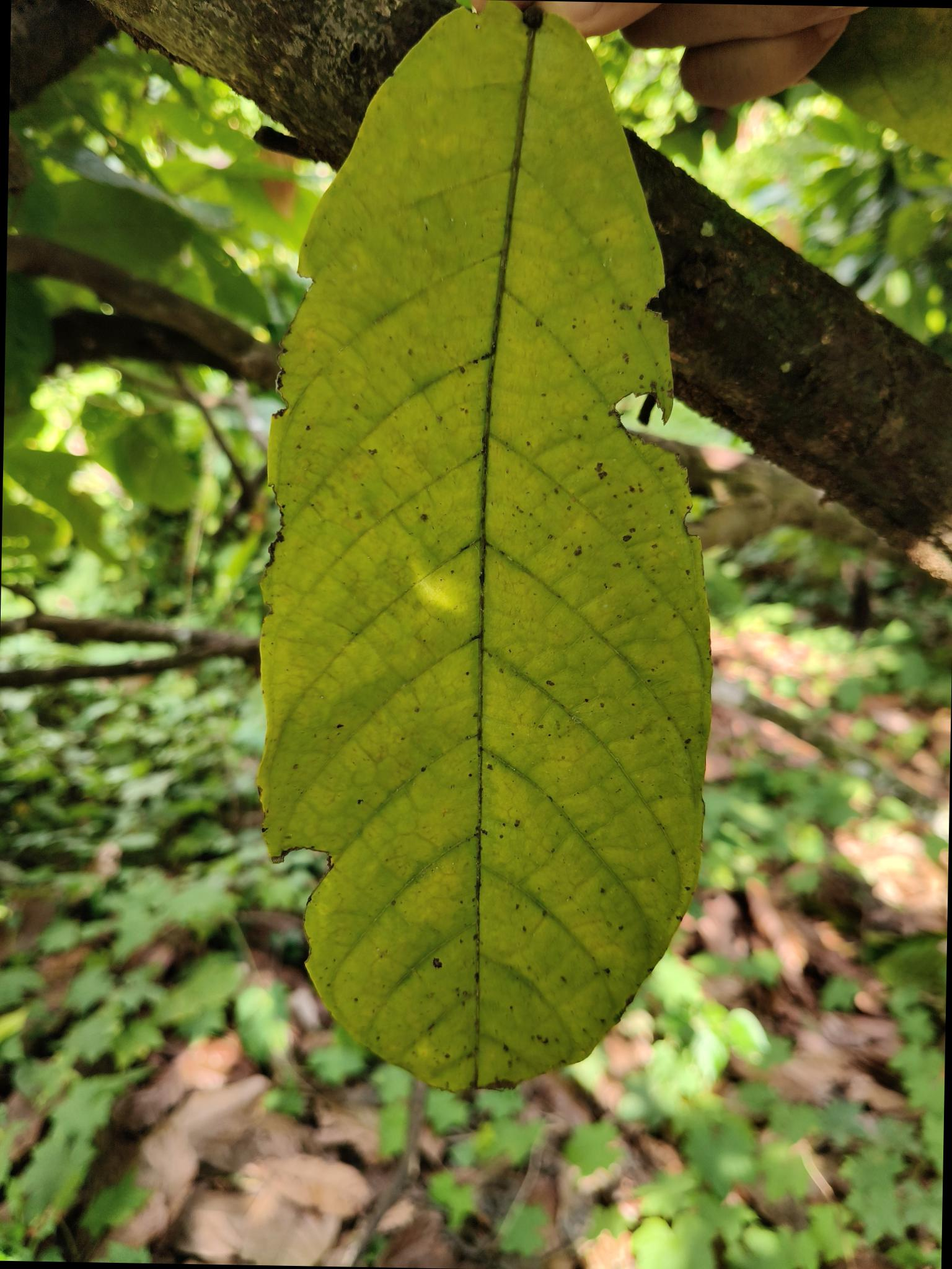Fosforo: (248, 0, 745, 1116)
